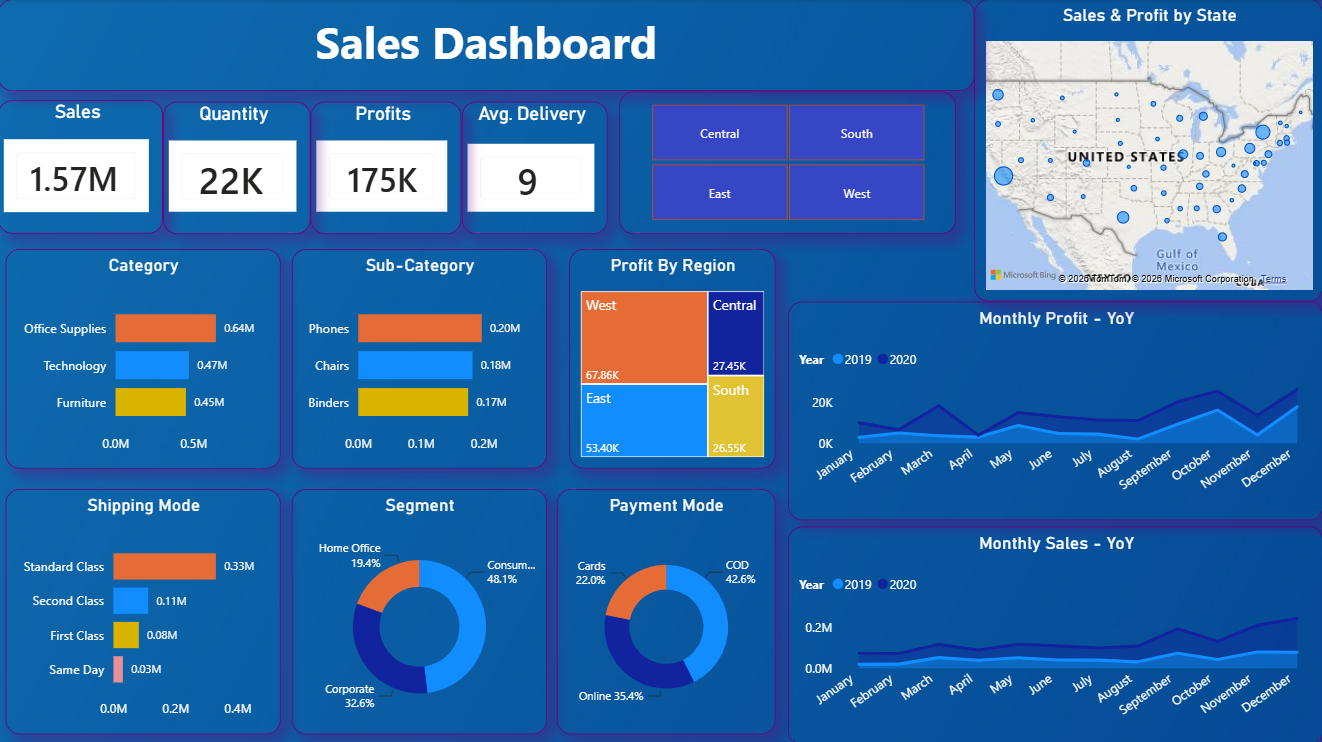

The dashboard page shown, as its layout file describes it:
{"tool":"powerbi","page":{"name":"Page 1","canvas":[1280,720],"ordinal":0},"visuals":[{"type":"clusteredBarChart","title":"Category","fields":{"Category":["SuperStore_Sales_Dataset.Category"],"Y":["Sum(SuperStore_Sales_Dataset.Sales)"]},"box":[7.2,241.3,265.4,212.3],"z":0},{"type":"clusteredBarChart","title":"Sub-Category","fields":{"Y":["Sum(SuperStore_Sales_Dataset.Sales)"],"Category":["SuperStore_Sales_Dataset.Sub-Category"]},"box":[283.5,241.3,246.1,212.3],"z":1000},{"type":"clusteredBarChart","title":"Shipping Mode","fields":{"Y":["Sum(SuperStore_Sales_Dataset.Sales)"],"Category":["SuperStore_Sales_Dataset.Ship Mode"]},"box":[7.2,472.9,265.4,236.5],"z":2000},{"type":"stackedAreaChart","title":"Monthly Sales - YoY","fields":{"Category":["SuperStore_Sales_Dataset.Order Date.Variation.Date Hierarchy.Month","SuperStore_Sales_Dataset.Order Date.Variation.Date Hierarchy.Day"],"Y":["Sum(SuperStore_Sales_Dataset.Sales)"],"Series":["SuperStore_Sales_Dataset.Order Date.Variation.Date Hierarchy.Year"]},"box":[762.5,509.1,517.6,211.1],"z":3000},{"type":"stackedAreaChart","title":"Monthly Profit - YoY","fields":{"Category":["SuperStore_Sales_Dataset.Order Date.Variation.Date Hierarchy.Month","SuperStore_Sales_Dataset.Order Date.Variation.Date Hierarchy.Day"],"Series":["SuperStore_Sales_Dataset.Order Date.Variation.Date Hierarchy.Year"],"Y":["Sum(SuperStore_Sales_Dataset.Profit)"]},"box":[762.5,292,517.6,211.1],"z":4000},{"type":"map","title":"Sales & Profit by State","fields":{"Category":["SuperStore_Sales_Dataset.State"],"Size":["Sum(SuperStore_Sales_Dataset.Sales)"]},"box":[942.7,0,337.6,292.3],"z":5000},{"type":"donutChart","title":"Segment","fields":{"Category":["SuperStore_Sales_Dataset.Segment"],"Y":["Sum(SuperStore_Sales_Dataset.Sales)"]},"box":[283.5,472.9,246.1,236.5],"z":6000},{"type":"donutChart","title":"Payment Mode","fields":{"Category":["SuperStore_Sales_Dataset.Payment Mode"],"Y":["Sum(SuperStore_Sales_Dataset.Sales)"]},"box":[539.3,472.9,211.1,236.5],"z":7000},{"type":"slicer","fields":{"Values":["SuperStore_Sales_Dataset.Region"]},"box":[599.6,89.3,324.5,137.5],"z":8000},{"type":"textbox","box":[0,0,942.7,89.2],"z":9000},{"type":"cardVisual","title":"Sales","fields":{"Data":["Sum(SuperStore_Sales_Dataset.Sales)"]},"box":[0,97.7,159.3,129.1],"z":10000},{"type":"cardVisual","title":"Avg. Delivery","fields":{"Data":["Count(SuperStore_Sales_Dataset.AverageDelivery)"]},"box":[447.6,98.9,141.2,127.9],"z":11000},{"type":"cardVisual","title":"Profits","fields":{"Data":["Sum(SuperStore_Sales_Dataset.Profit)"]},"box":[301.6,98.9,146,127.9],"z":12000},{"type":"cardVisual","title":"Quantity","fields":{"Data":["Sum(SuperStore_Sales_Dataset.Quantity)"]},"box":[159.3,98.9,142.4,127.9],"z":13000},{"type":"treemap","title":"Profit By Region","fields":{"Group":["SuperStore_Sales_Dataset.Region"],"Values":["Sum(SuperStore_Sales_Dataset.Profit)"]},"box":[551.3,241.3,199.1,212.3],"z":14000}]}

Visuals, with their boxes in screenshot pixels (x1, y1, x2, y2), scaled from the page's 1280x720 canvas onto the 1322x742 screenshot:
"Category" clusteredBarChart: 7 249 282 467
"Sub-Category" clusteredBarChart: 293 249 547 467
"Shipping Mode" clusteredBarChart: 7 487 282 731
"Monthly Sales - YoY" stackedAreaChart: 788 525 1321 741
"Monthly Profit - YoY" stackedAreaChart: 788 301 1321 518
"Sales & Profit by State" map: 974 0 1321 301
"Segment" donutChart: 293 487 547 731
"Payment Mode" donutChart: 557 487 775 731
slicer - SuperStore_Sales_Dataset.Region: 619 92 954 234
textbox: 0 0 974 92
"Sales" cardVisual: 0 101 165 234
"Avg. Delivery" cardVisual: 462 102 608 234
"Profits" cardVisual: 311 102 462 234
"Quantity" cardVisual: 165 102 312 234
"Profit By Region" treemap: 569 249 775 467
